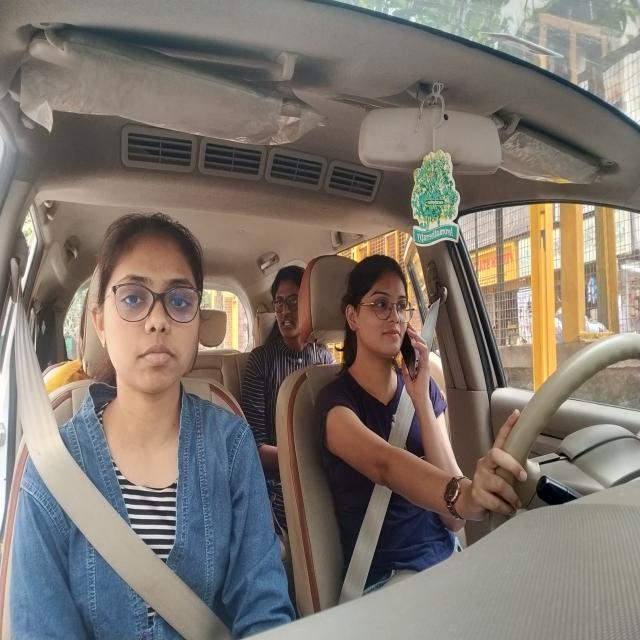mobile: (400, 335, 427, 383)
person: (90, 211, 198, 396), (344, 255, 410, 358), (267, 260, 309, 338)
